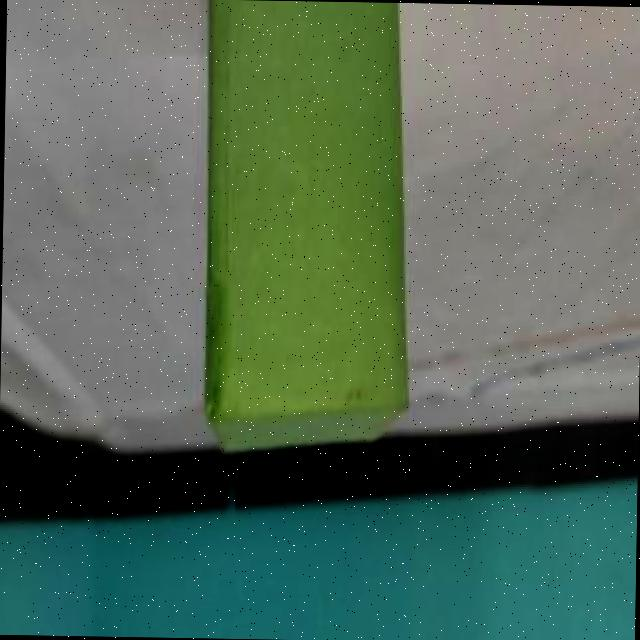greenbox: (200, 0, 419, 462)
